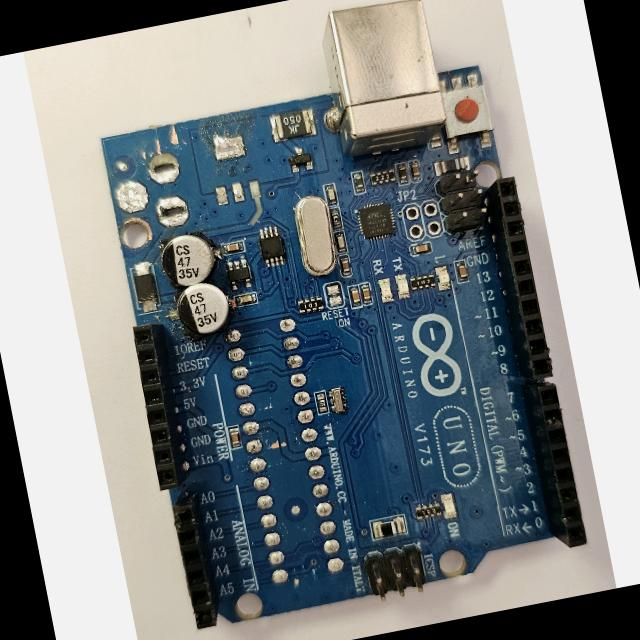missing_atmega: (223, 312, 354, 594)
missing_eps: (130, 135, 206, 235)
missing_voltage_reg: (203, 122, 271, 218)
